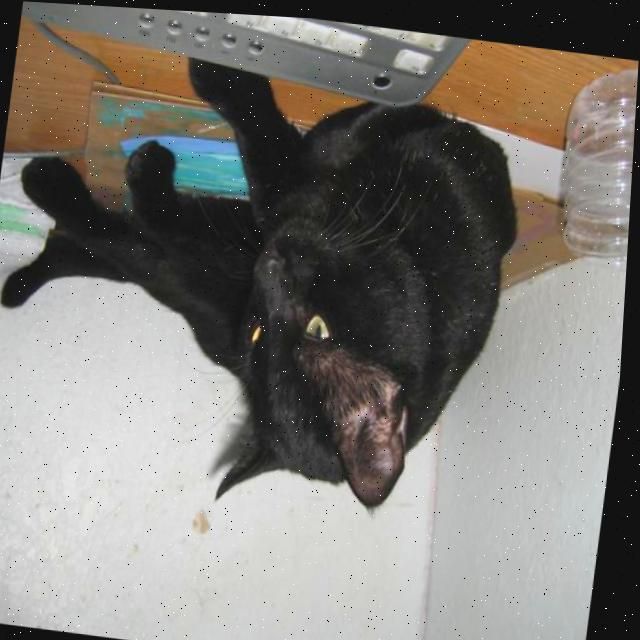Bombay: (0, 1, 544, 538)
